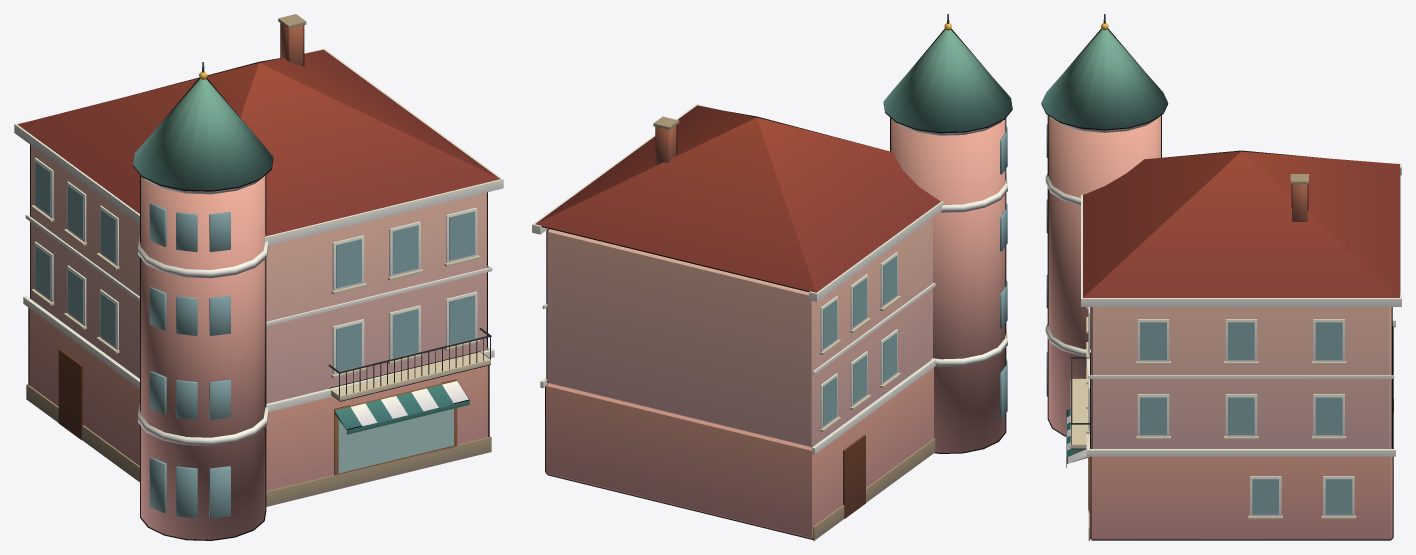
Rendered from Bina_Kose.fbx.
The picture shows the model from 3 angles, left to right: view 1: azimuth 30°, elevation 25°; view 2: azimuth 150°, elevation 25°; view 3: azimuth 270°, elevation 25°; orthographic projection. The views are drawn at different scales.
Parts seen in each view (by area): view 1: Bina_Kose; view 2: Bina_Kose; view 3: Bina_Kose.
Boxes of the visible parts, box(x1,y1,x2,y2) form: Bina_Kose: box(14, 14, 503, 540); Bina_Kose: box(532, 14, 1012, 540); Bina_Kose: box(1041, 14, 1401, 540).
Bounding box in the file's own units: 14.79 × 18.35 × 14.79.
4 materials, 1 textured.
